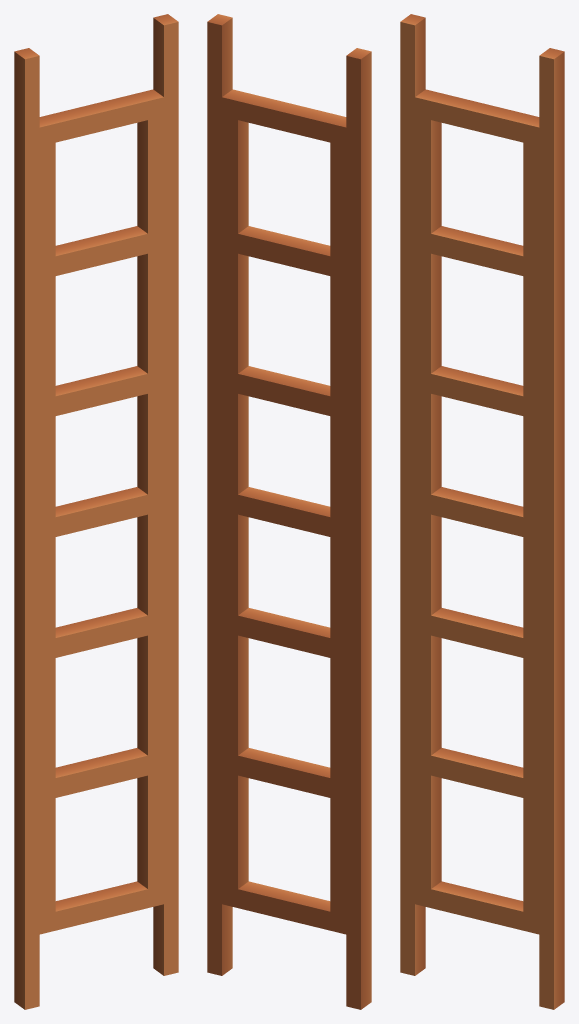
Rendered from Ladder.fbx.
The picture shows the model from 3 angles, left to right: view 1: azimuth 30°, elevation 25°; view 2: azimuth 150°, elevation 25°; view 3: azimuth 330°, elevation 25°; orthographic projection.
Visible parts, largest first — view 1: Ladder; view 2: Ladder; view 3: Ladder.
Part boxes in pixels (box(x1,y1,x2,y2)): Ladder: box(14, 14, 178, 1009); Ladder: box(207, 14, 371, 1009); Ladder: box(400, 14, 564, 1009).
Size of the model in its own units: 0.2634 by 1.56 by 0.0318.
